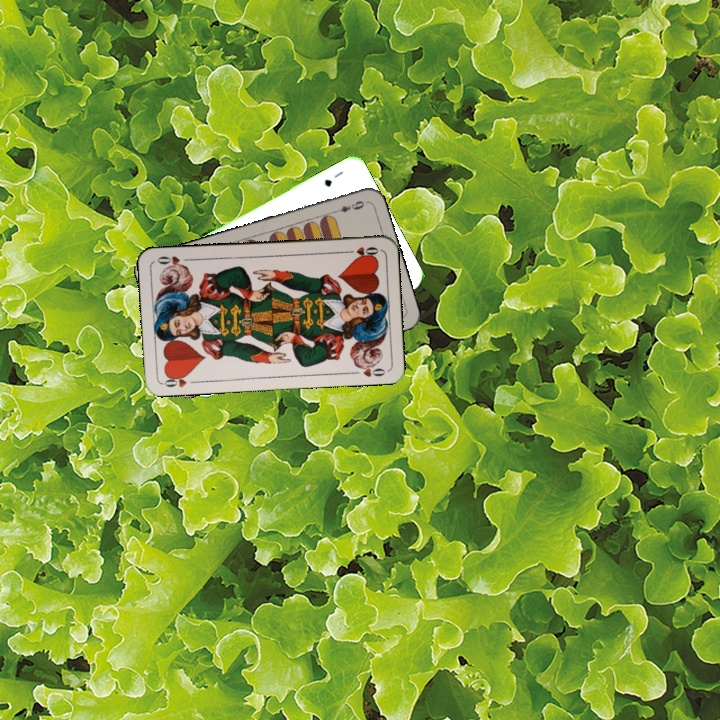E9: (329, 197, 369, 216)
GU: (320, 167, 345, 190)
HO: (160, 370, 200, 390), (341, 243, 381, 260)
